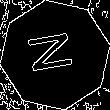N_E: (27, 31, 83, 79)
